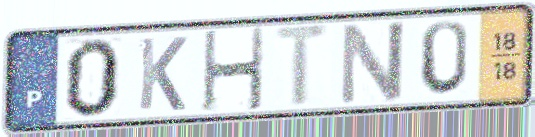0: (63, 36, 124, 120), (415, 18, 469, 99)
H: (200, 25, 267, 115)
K: (136, 34, 190, 113)
N: (336, 18, 408, 109)
T: (271, 21, 336, 111)
